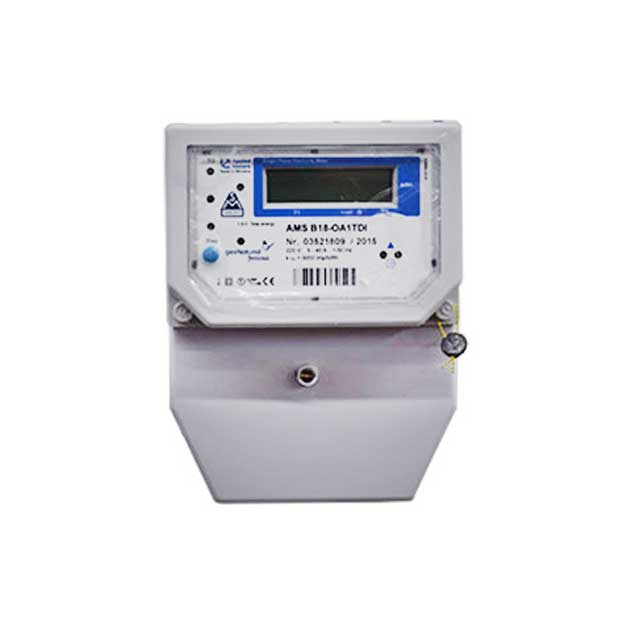counter: (160, 120, 462, 506)
counter_screen: (262, 162, 398, 210)
